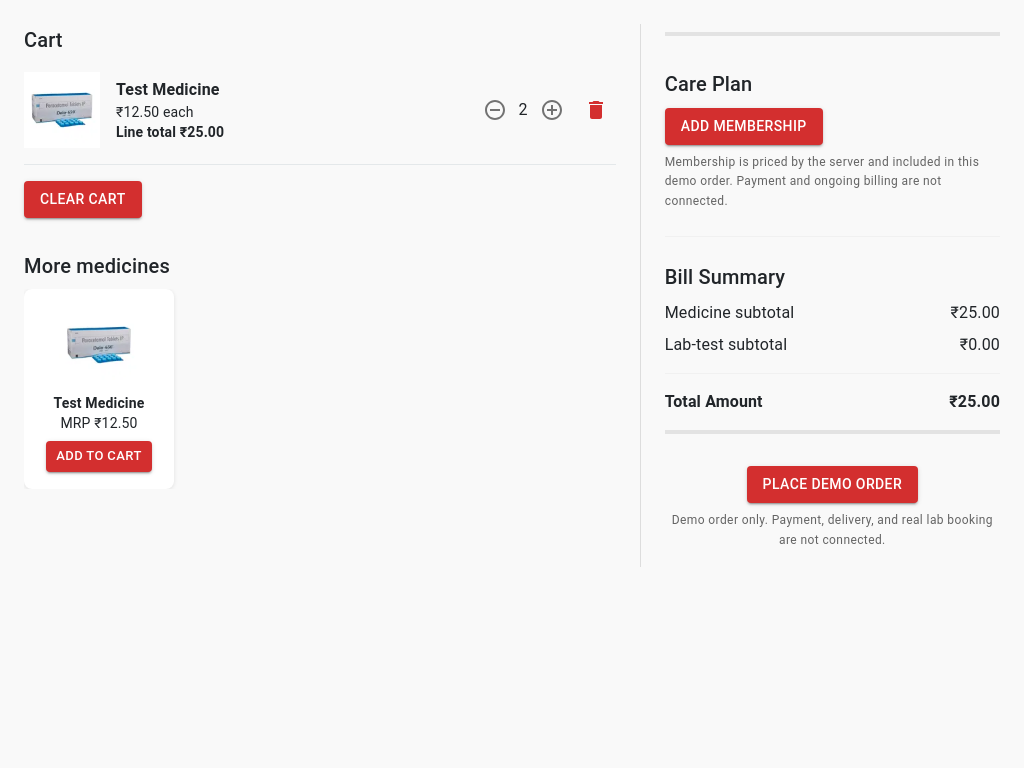
Test: failed order placement preserves the user cart and uses server-side item inputs
Click the button "Place demo order".
click(832, 484)  # box [747,466,918,503]
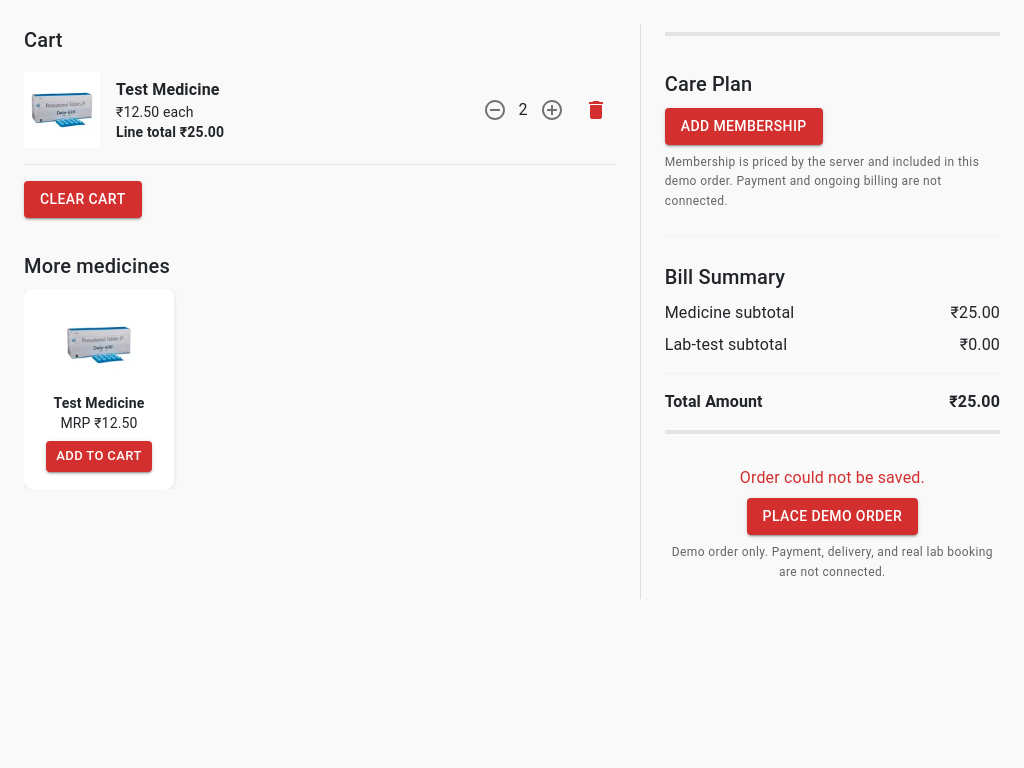
Check: the message reads "Order could not be saved.", box [740,468,925,487]
